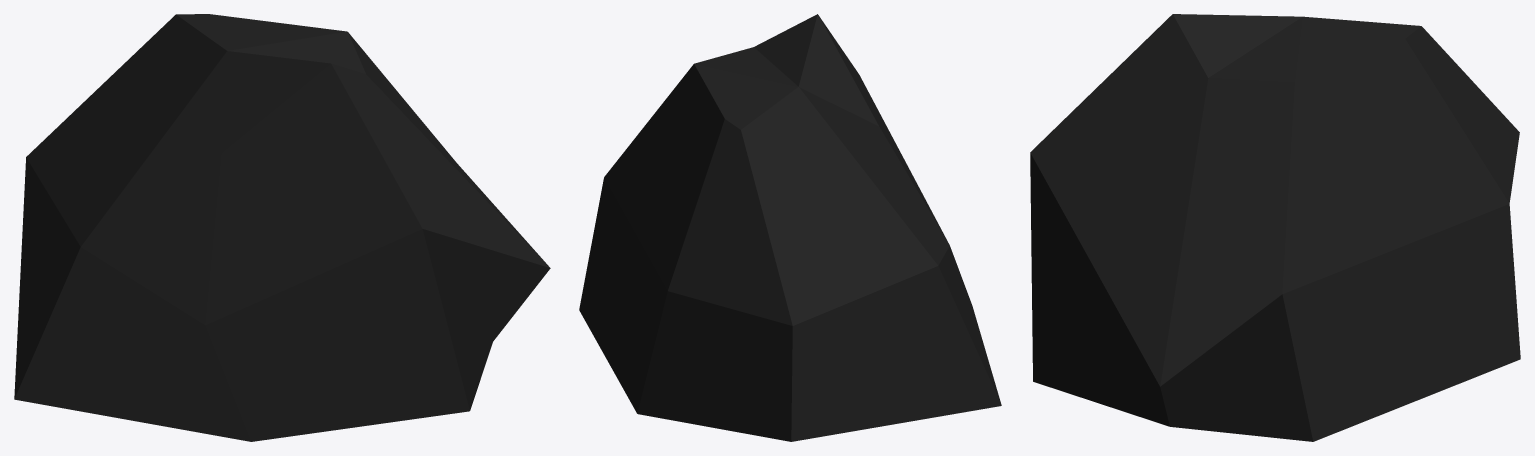
File: Rock.fbx
The picture shows the model from 3 angles, left to right: view 1: azimuth 30°, elevation 25°; view 2: azimuth 150°, elevation 25°; view 3: azimuth 270°, elevation 25°; orthographic projection. The views are drawn at different scales.
Parts seen in each view (by area): view 1: Rock; view 2: Rock; view 3: Rock.
Part boxes in pixels (box(x1,y1,x2,y2)): Rock: box(14, 14, 550, 441); Rock: box(579, 14, 1001, 441); Rock: box(1030, 14, 1520, 441).
Size of the model in its own units: 191 by 123 by 165.
